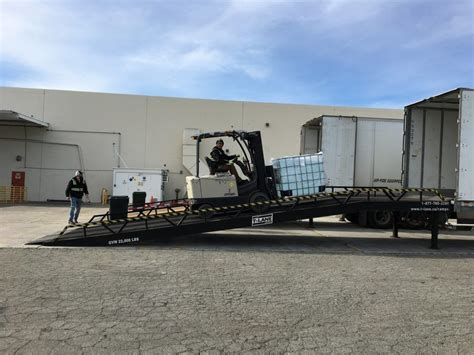Pallet Jack: (185, 129, 320, 220)
Yard Ramp: (26, 186, 451, 247)
